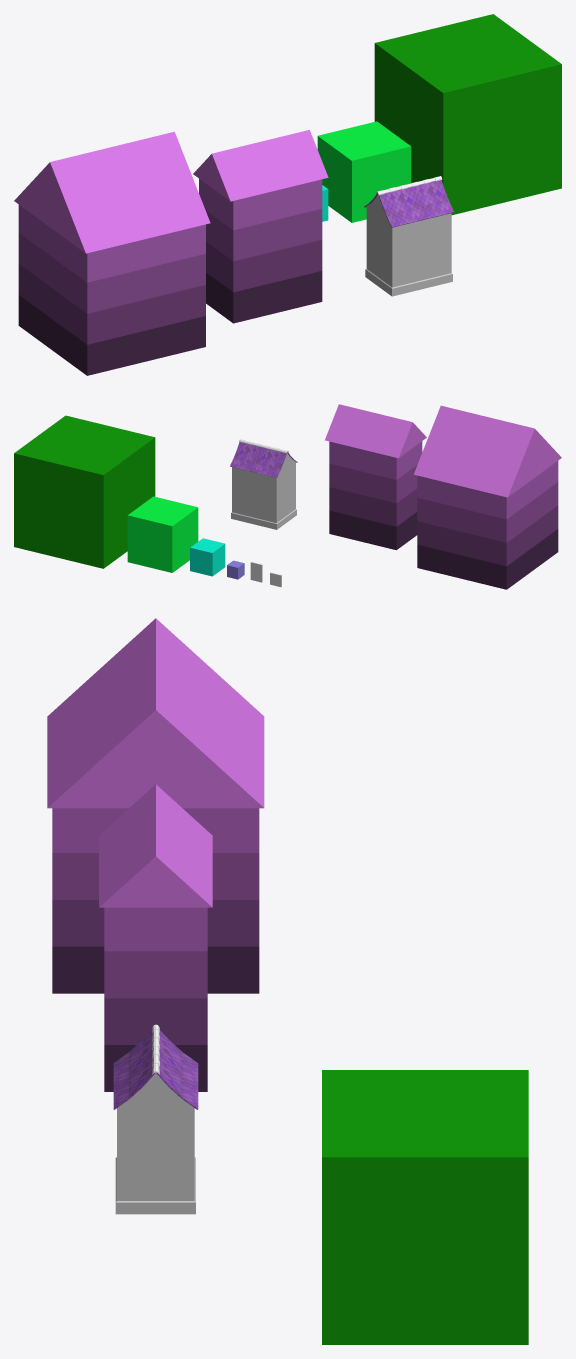
Rendered from Small_House_004.fbx.
3 renders of one model, top to bottom at view 1: azimuth 30°, elevation 25°; view 2: azimuth 150°, elevation 25°; view 3: azimuth 270°, elevation 25°, orthographic. The views are drawn at different scales.
Parts seen in each view (by area): view 1: 8x8m_Part, 0_Roof, 4x4m_Part, 2_Middle_Top, 3_Middle_Bottom, 4_Bottom, 0_Roof.001, 1_Top, 3_Middle_Bottom.001, 4_Bottom.001, 2_Middle_Top.001, 1_Top.001 (+4 smaller); view 2: 8x8m_Part, 0_Roof, 4x4m_Part, 2_Middle_Top, 3_Middle_Bottom, 4_Bottom, 0_Roof.001, 1_Top, 3_Middle_Bottom.001, 4_Bottom.001, 2_Middle_Top.001, 1_Top.001 (+6 smaller); view 3: 8x8m_Part, 0_Roof, 0_Roof.001, 1_Top, 4_Bottom, 2_Middle_Top.001, 3_Middle_Bottom, 1_Top.001, 3_Middle_Bottom.001, 2_Middle_Top, Roof_Scaled_Up, Stone_Wall (+4 smaller).
Boxes of the visible parts, x1,y1,x2,y2 form: 8x8m_Part: (374, 14, 561, 215); 0_Roof: (14, 131, 210, 253); 4x4m_Part: (317, 121, 411, 222); 2_Middle_Top: (18, 233, 205, 313); 3_Middle_Bottom: (18, 264, 205, 344); 4_Bottom: (18, 295, 205, 375); 0_Roof.001: (193, 130, 328, 201); 1_Top: (18, 205, 205, 282); 3_Middle_Bottom.001: (206, 240, 322, 292); 4_Bottom.001: (206, 271, 322, 323); 2_Middle_Top.001: (205, 209, 322, 261); 1_Top.001: (199, 179, 322, 230); 8x8m_Part: (14, 415, 155, 568); 0_Roof: (414, 405, 561, 497); 4x4m_Part: (127, 496, 198, 572); 2_Middle_Top: (417, 482, 558, 542); 3_Middle_Bottom: (417, 505, 558, 566); 4_Bottom: (417, 529, 558, 589); 0_Roof.001: (325, 404, 426, 458); 1_Top: (417, 461, 558, 519); 3_Middle_Bottom.001: (329, 487, 417, 526); 4_Bottom.001: (329, 510, 417, 550); 2_Middle_Top.001: (329, 463, 417, 503); 1_Top.001: (329, 441, 422, 479); 8x8m_Part: (322, 1070, 528, 1344); 0_Roof: (47, 618, 264, 808); 0_Roof.001: (99, 784, 212, 907); 1_Top: (52, 808, 259, 852); 4_Bottom: (52, 946, 259, 993); 2_Middle_Top.001: (104, 951, 207, 998); 3_Middle_Bottom: (52, 900, 259, 946); 1_Top.001: (104, 907, 207, 951); 3_Middle_Bottom.001: (104, 998, 207, 1044); 2_Middle_Top: (52, 853, 259, 899); Roof_Scaled_Up: (113, 1030, 198, 1109); Stone_Wall: (117, 1154, 194, 1200).
Size of the model in its own units: 1862 by 1320 by 3820.
